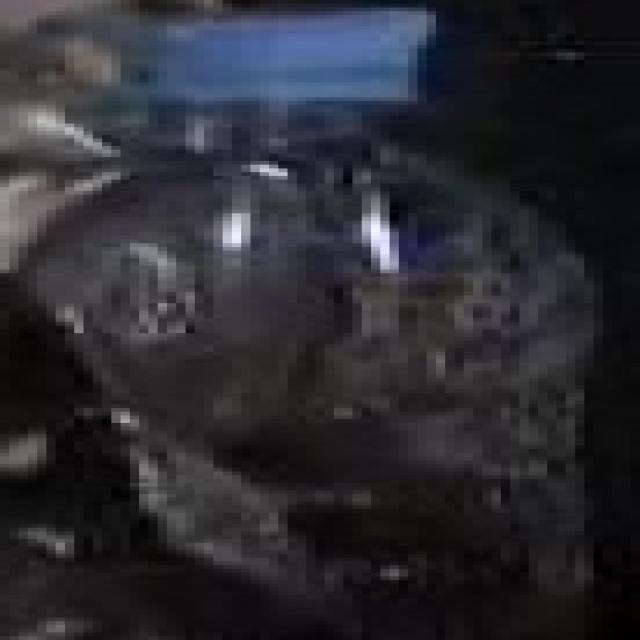litter: (104, 13, 608, 640)
